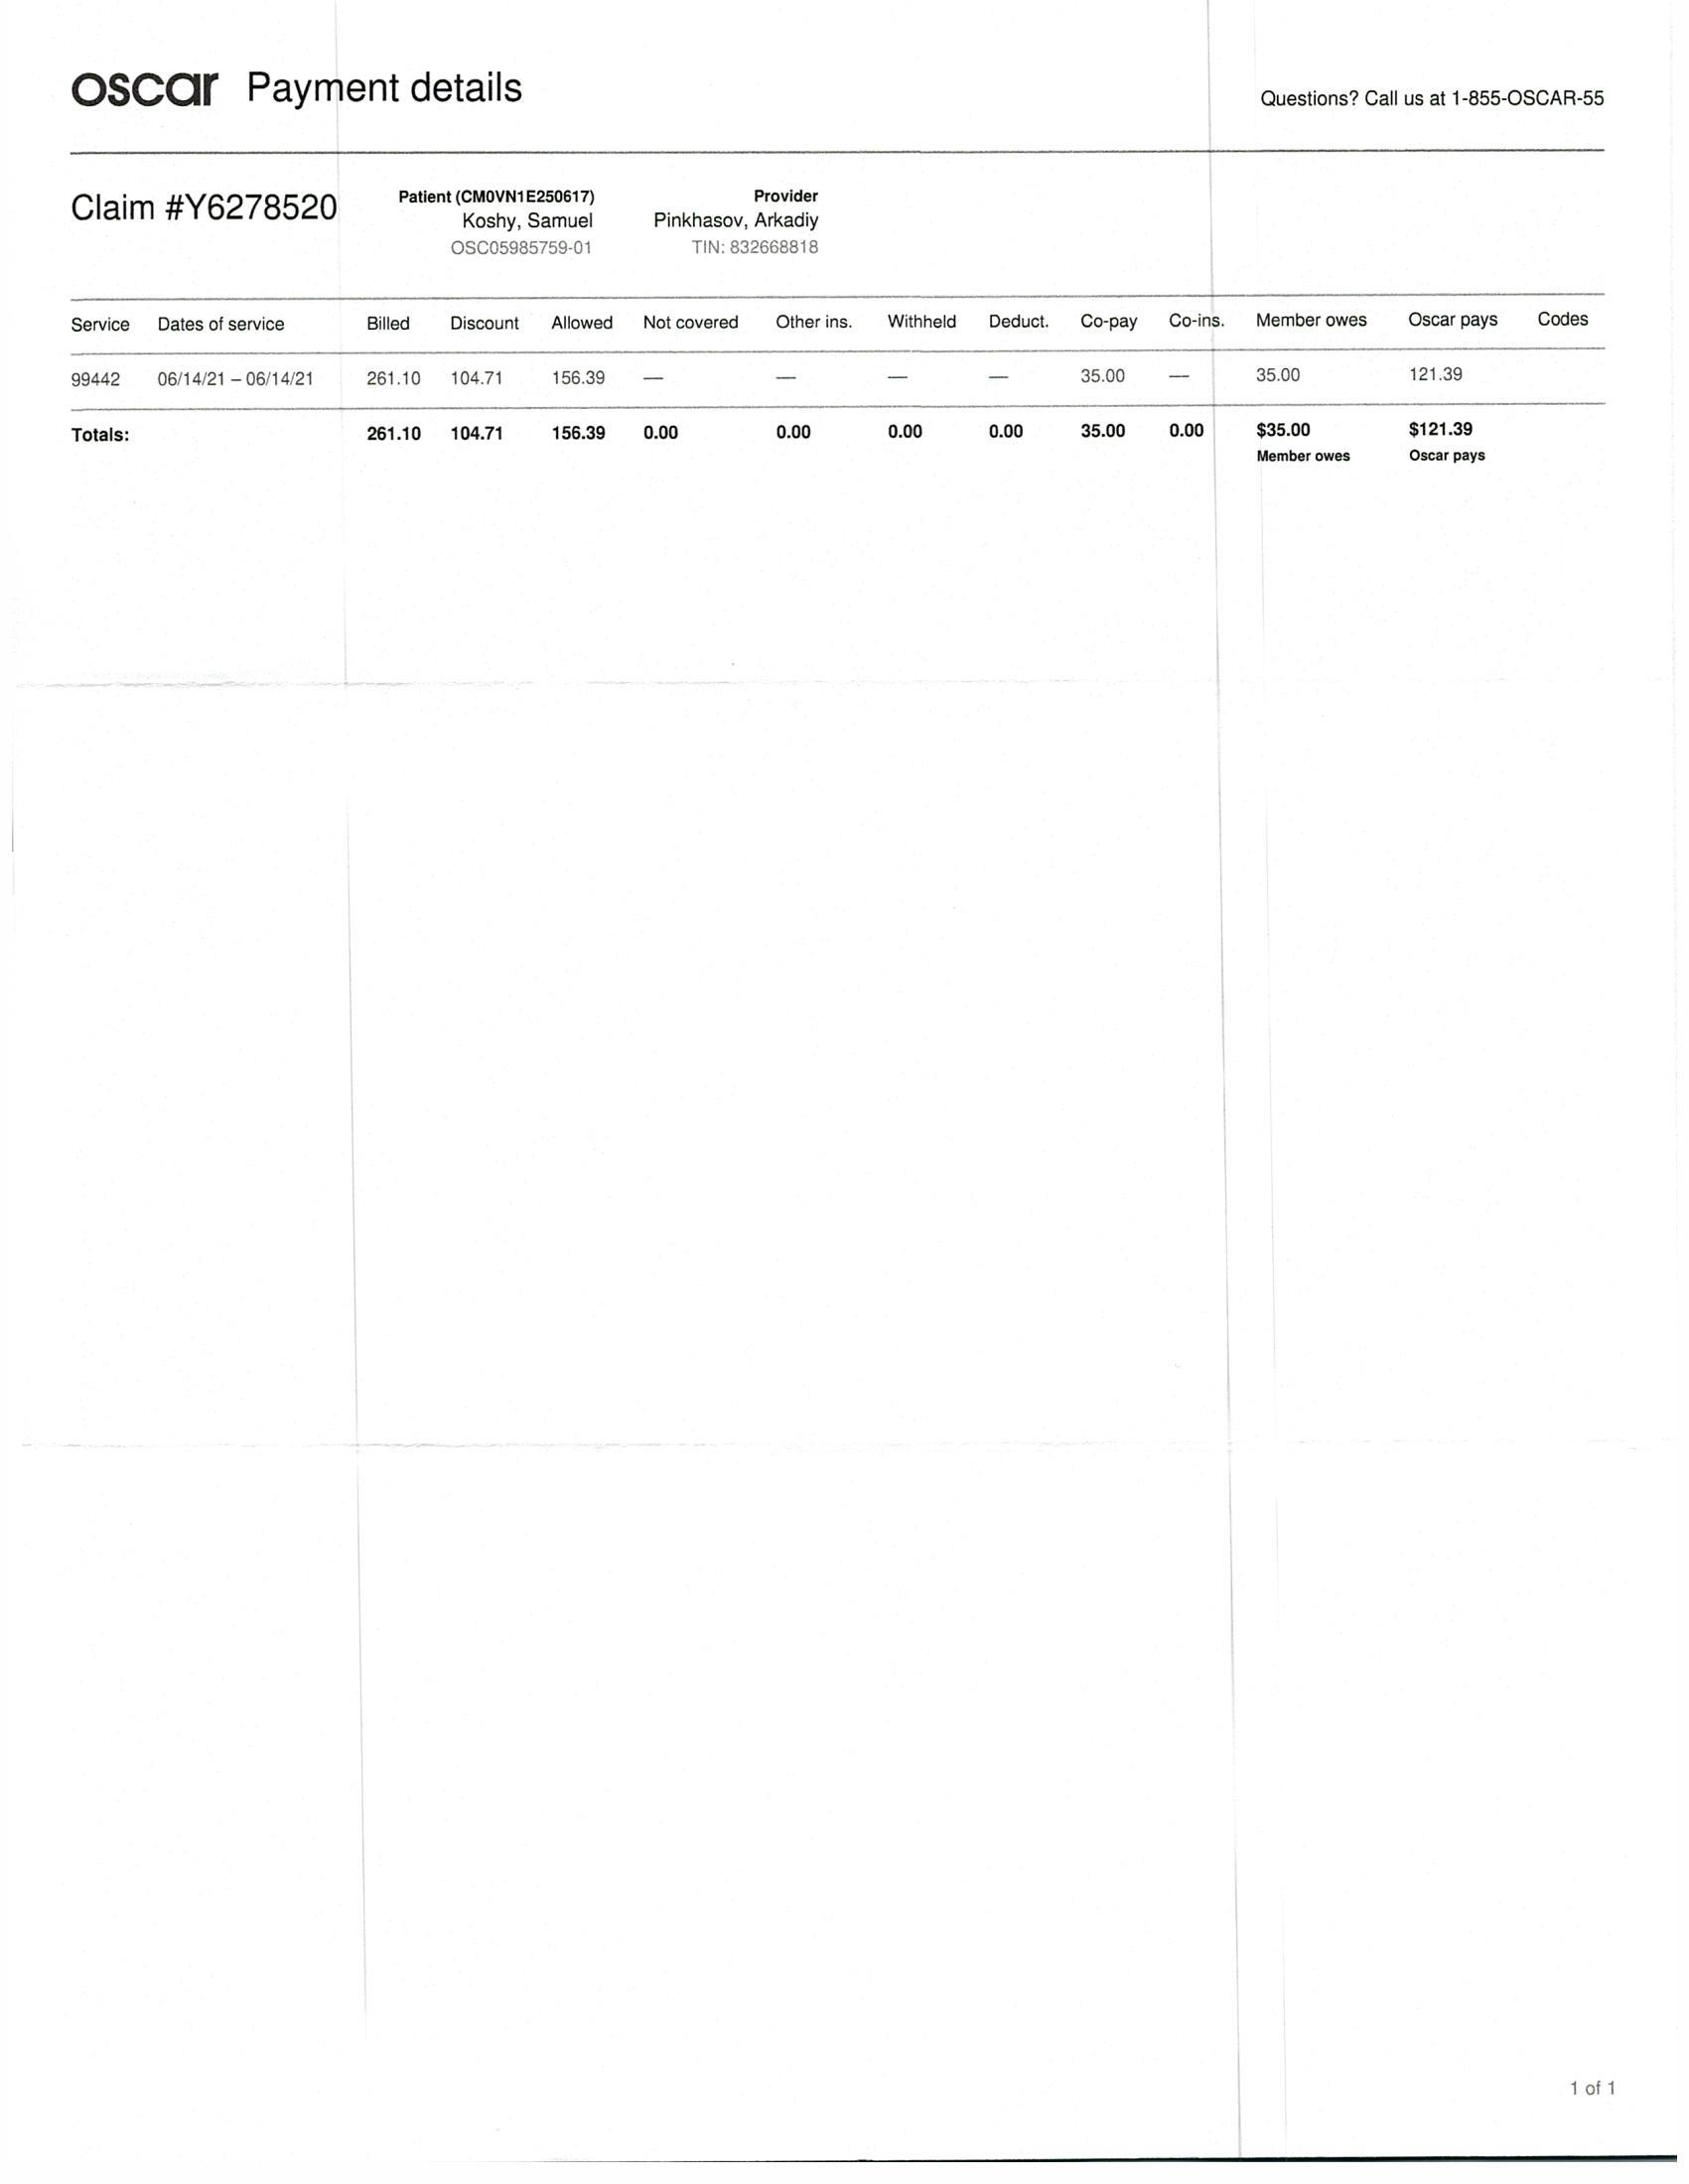data: (48, 170, 860, 268)
table: (48, 275, 1622, 450)
